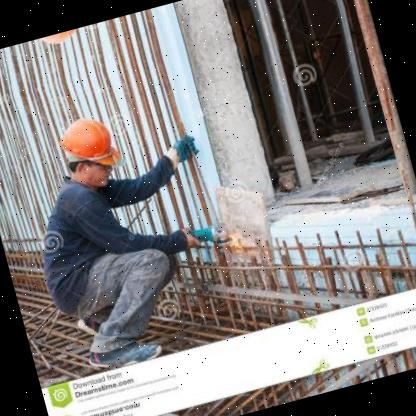capacete: (46, 102, 127, 182)
